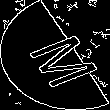M_NE: (12, 23, 98, 87)
